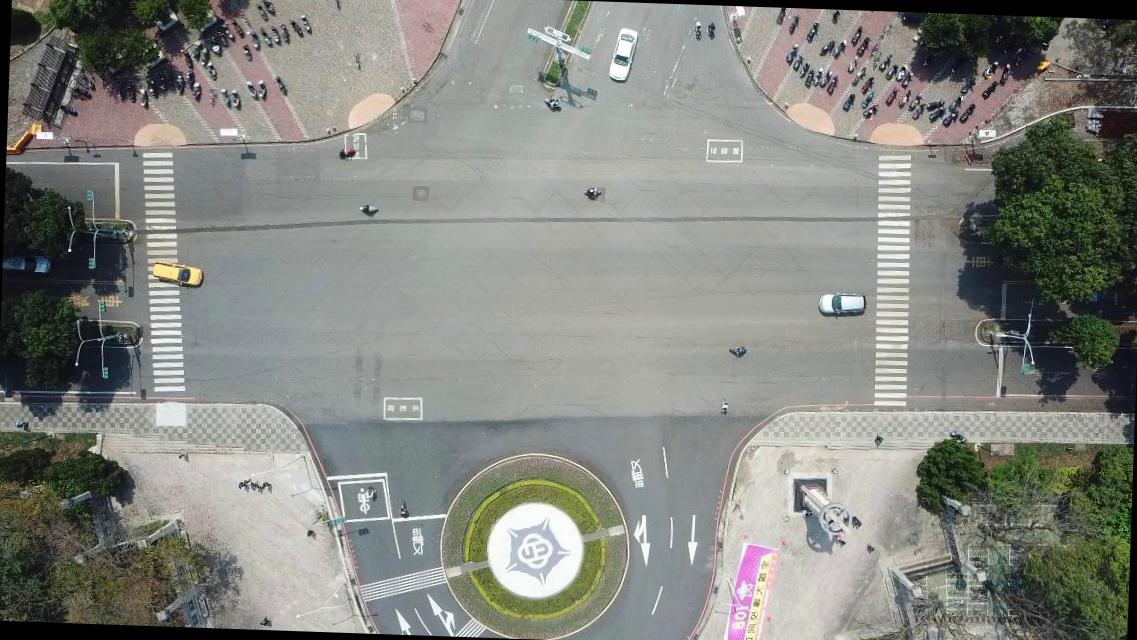vehicle: (606, 27, 640, 82), (151, 258, 205, 288), (816, 290, 866, 318), (2, 250, 50, 276)
